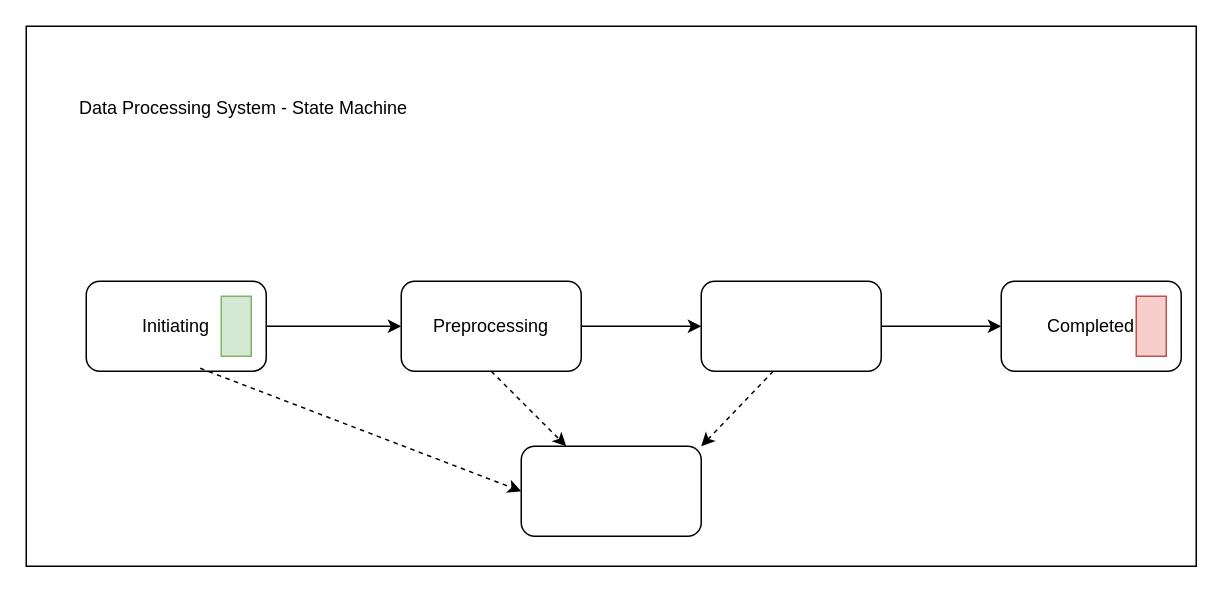
Image size: 1223x593. Some labels were removed from this diagram. The shapes that lost their labels are listed below. From the top down, each one's centre as x and y in pixels, then its label:
At (790,325): "Processing".
At (610,490): "Error".
